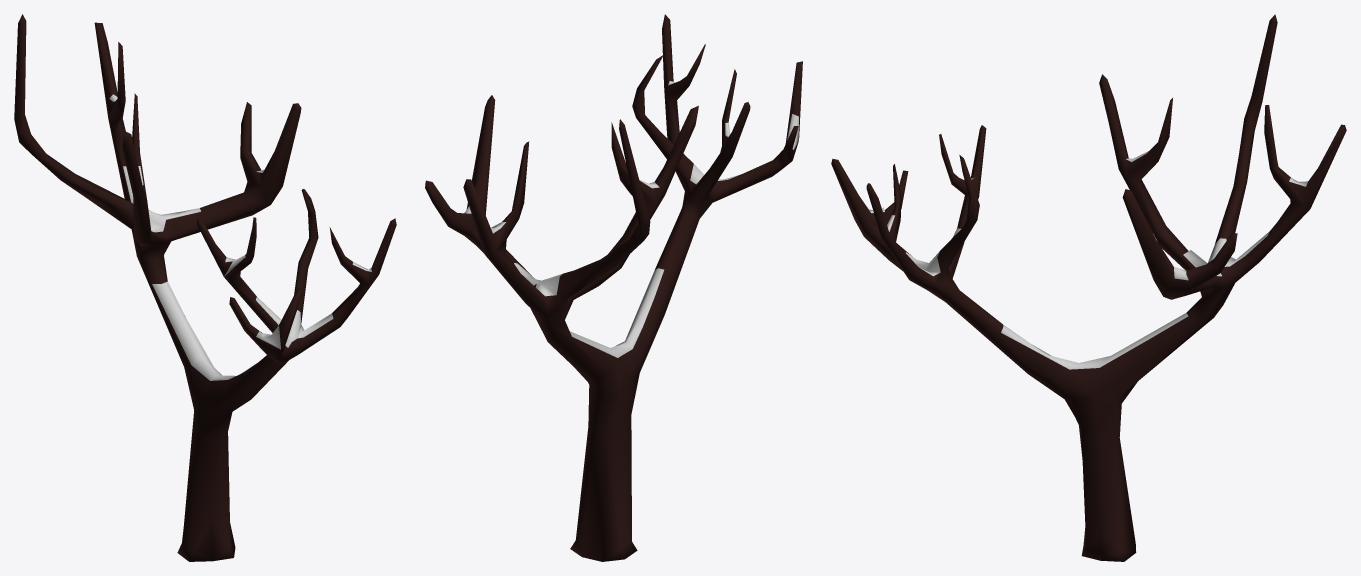
The model's file is CommonTree_Dead_Snow_1.fbx.
3 renders of one model, left to right at view 1: azimuth 30°, elevation 25°; view 2: azimuth 150°, elevation 25°; view 3: azimuth 270°, elevation 25°, orthographic. The views are drawn at different scales.
Parts seen in each view (by area): view 1: CommonTree_Dead_Snow_1; view 2: CommonTree_Dead_Snow_1; view 3: CommonTree_Dead_Snow_1.
Boxes of the visible parts, bbox=[...] form: CommonTree_Dead_Snow_1: bbox=[14, 14, 396, 561]; CommonTree_Dead_Snow_1: bbox=[425, 14, 802, 561]; CommonTree_Dead_Snow_1: bbox=[831, 14, 1346, 561].
Bounding box in the file's own units: 589 × 1195 × 1249.
